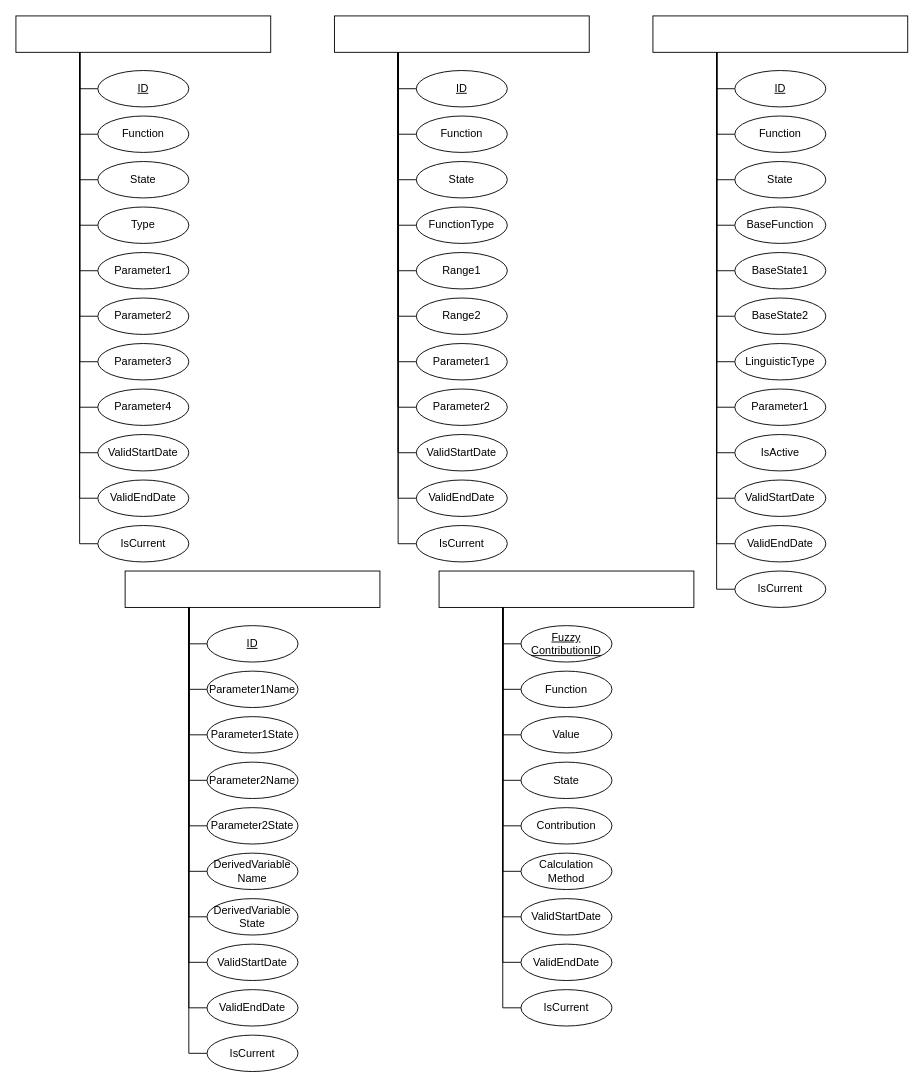
The diagram is 924 pixels wide and 1087 high, and some of its shapes have lost their labels. Each missing label, with the centre of its shape:
DerivedMembershipFunctionConfiguration: point (252, 588)
FuzzyContribution: point (566, 588)
FuzzyMembershipFunctionArbitraryConfiguration: point (143, 33)
FuzzyMembershipFunctionConfiguration: point (461, 33)
FuzzyMembershipFunctionLinguisticConfiguration: point (780, 33)
